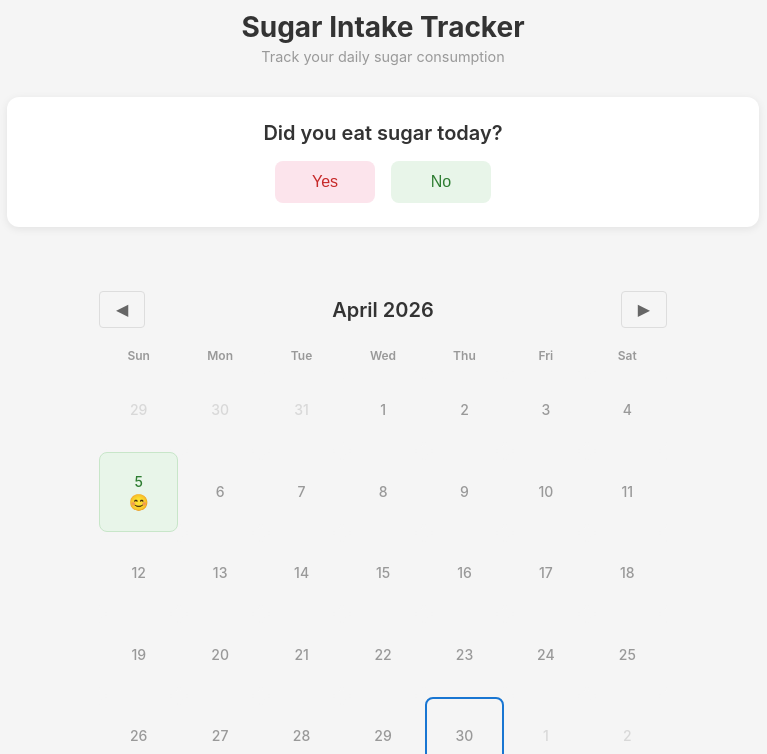
Test: App integration – user flows › navigation flow: next month → see next month data → prev month → see original data
Expected: the button with test id "day-cell-5" shows "😊", 99,452 -> 178,532
// Click "Next month"
Click the button named "Next month" at (644, 310), box 621,291 -> 667,328
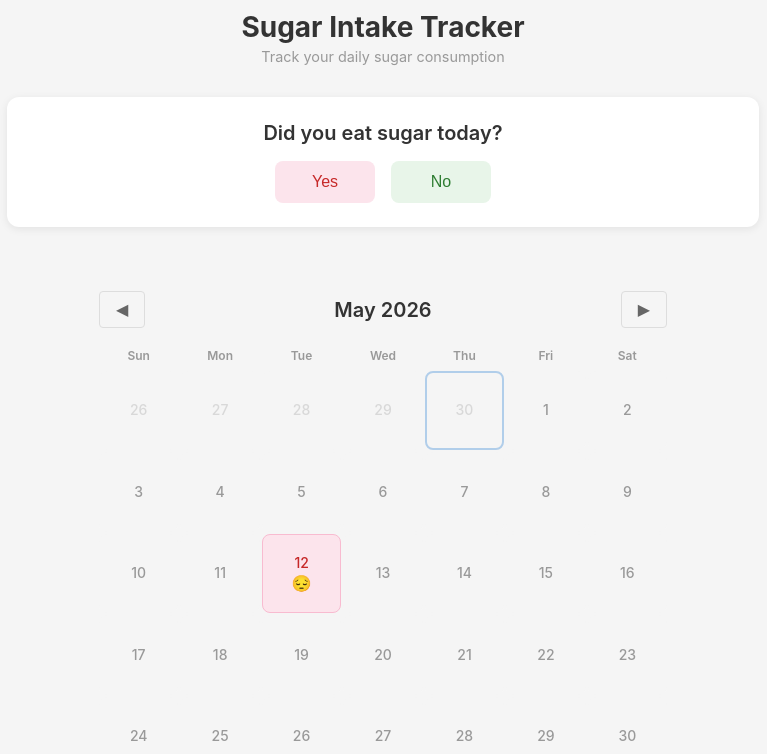
Now the button with test id "day-cell-12" shows "😔", box 262,534 -> 341,613
// Click "Previous month" to go back
Click the button named "Previous month" at (122, 310), box 99,291 -> 145,328
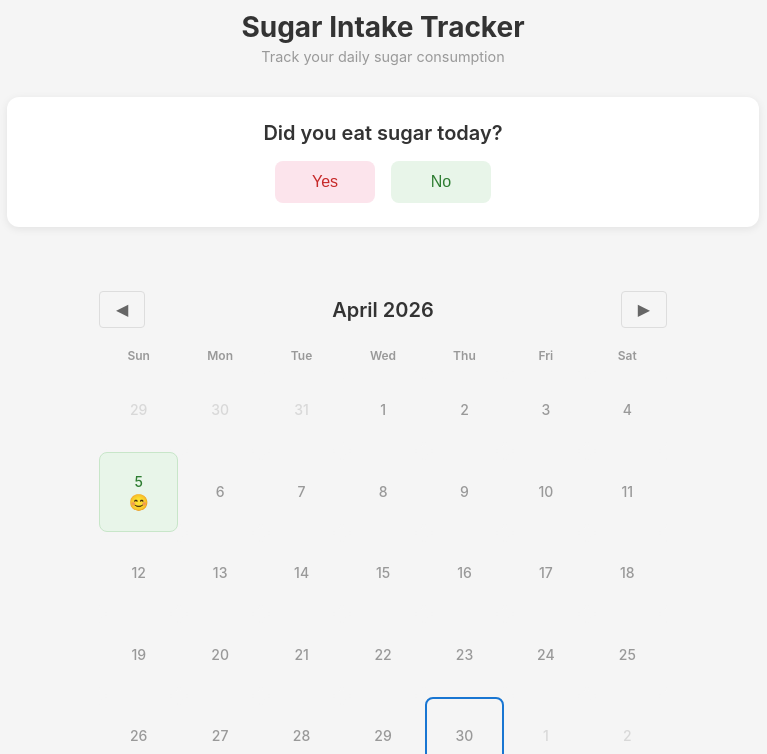
Now the button with test id "day-cell-5" shows "😊", box 99,452 -> 178,532
